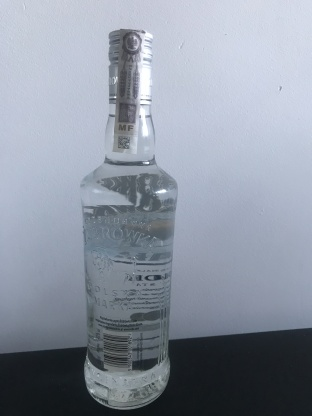nakretka: (106, 25, 154, 107)
